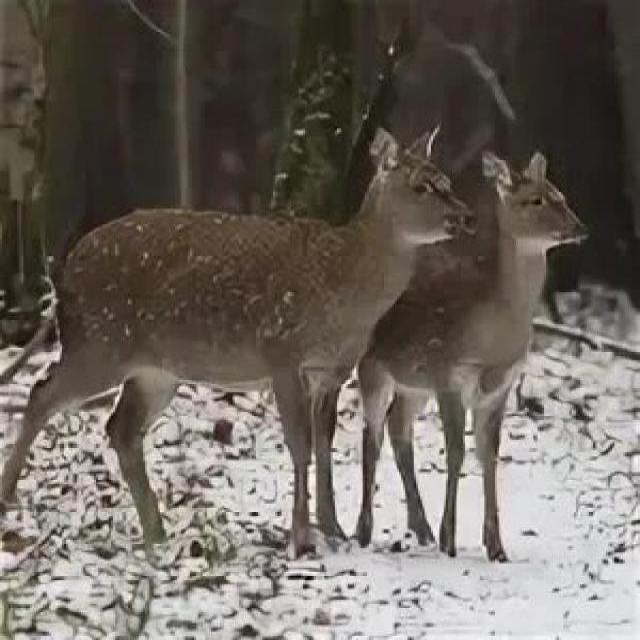deer: (9, 127, 408, 504), (356, 187, 638, 446)
